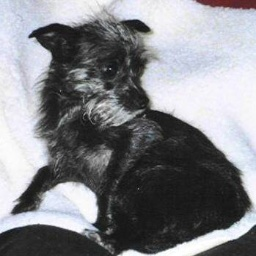dog: (30, 11, 169, 214)
